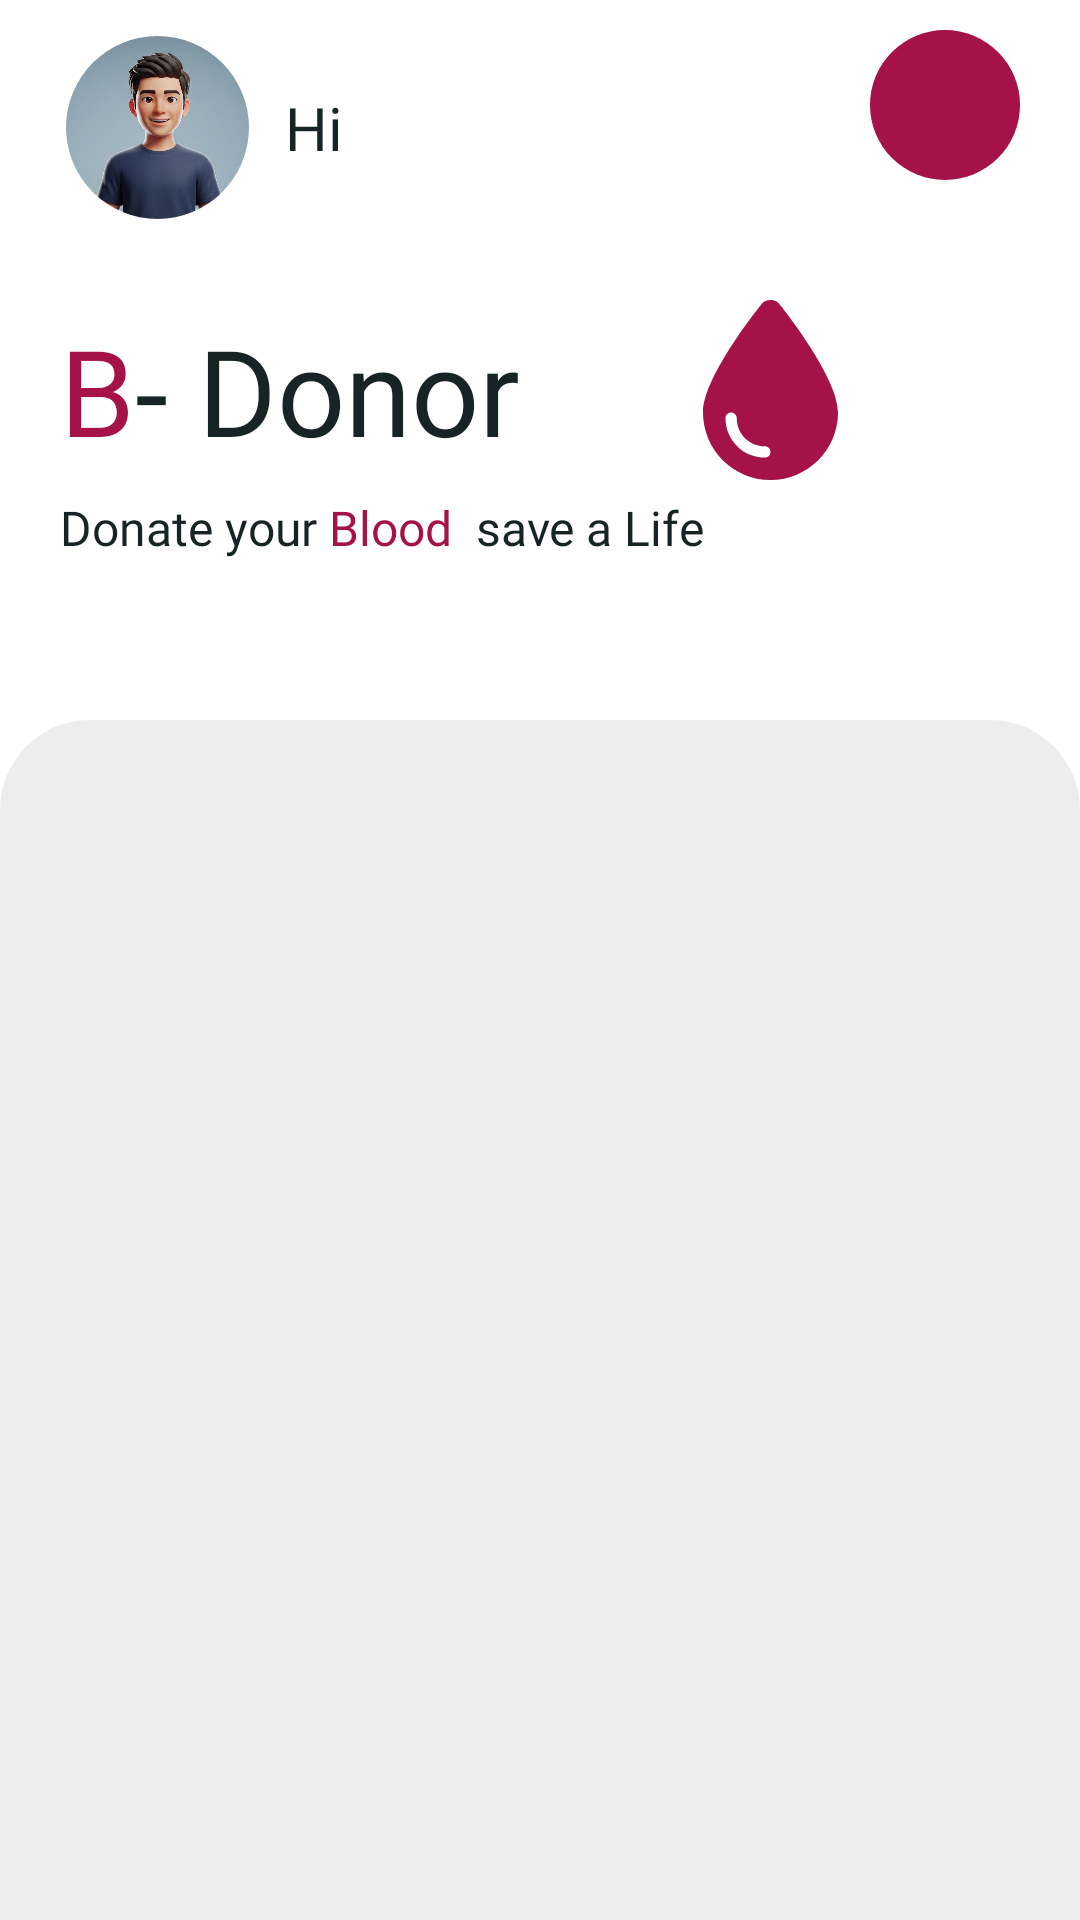

Where to tap for icons on this 1080w x 1920h app screen, as point (x, y):
profile: point (157, 127)
